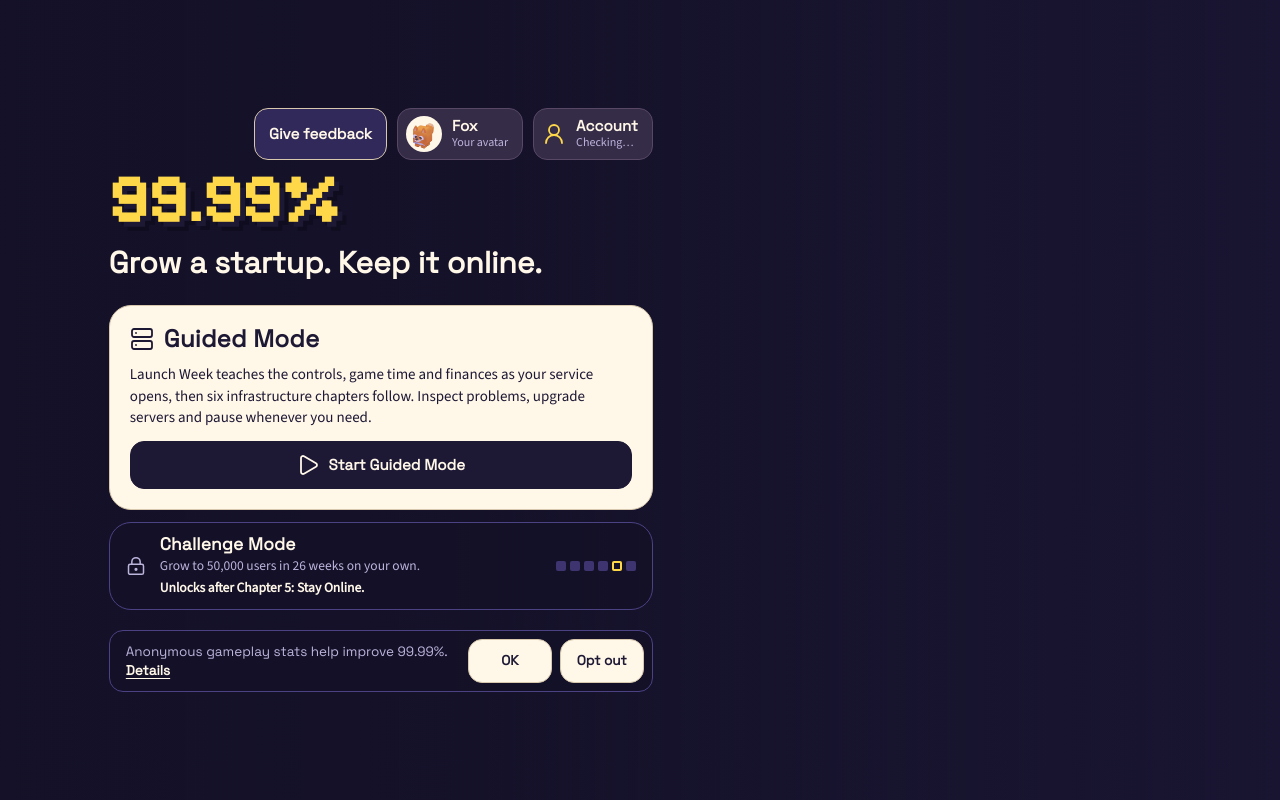
analytics consent › remembers an opt-out too
This screenshot has width=1280, height=800.
Click the button "Opt out".
click(602, 661)  # box [560,639,644,683]
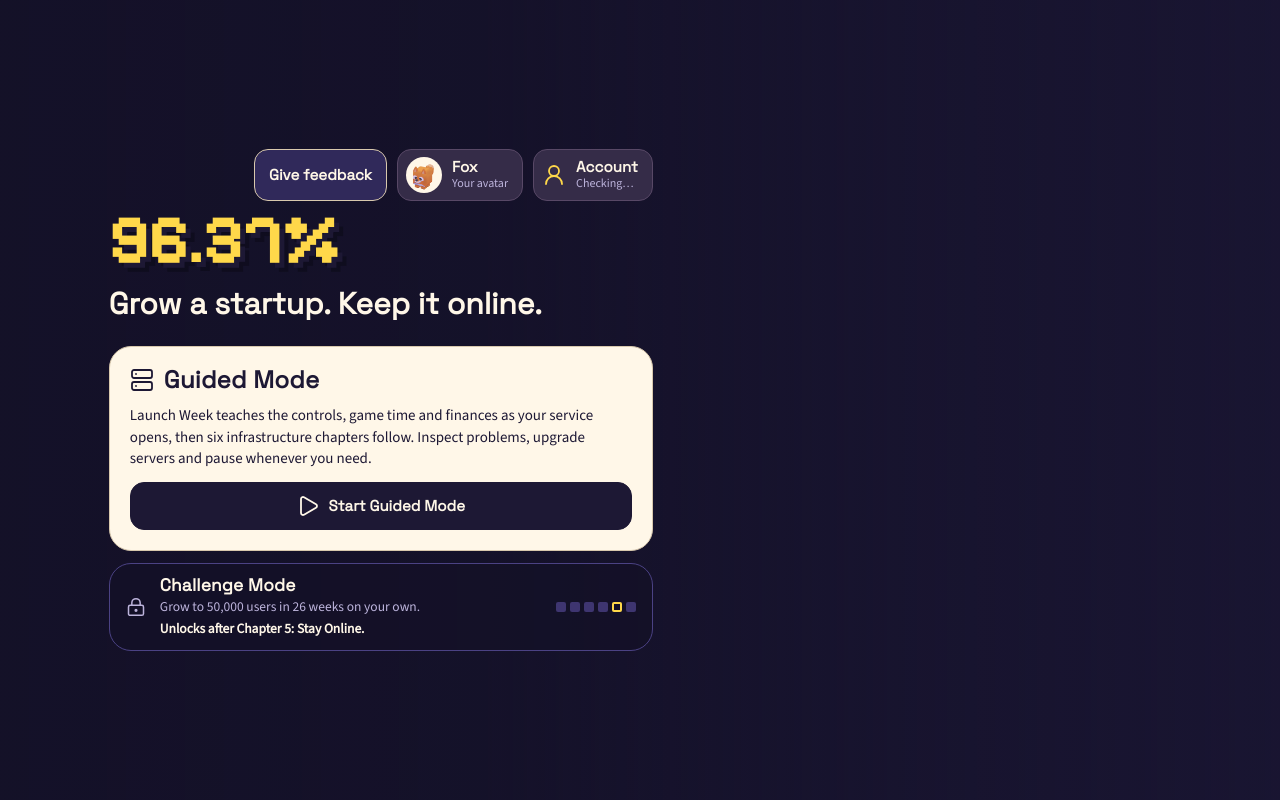
Check: the heading "help improve 99.99%" is gone
